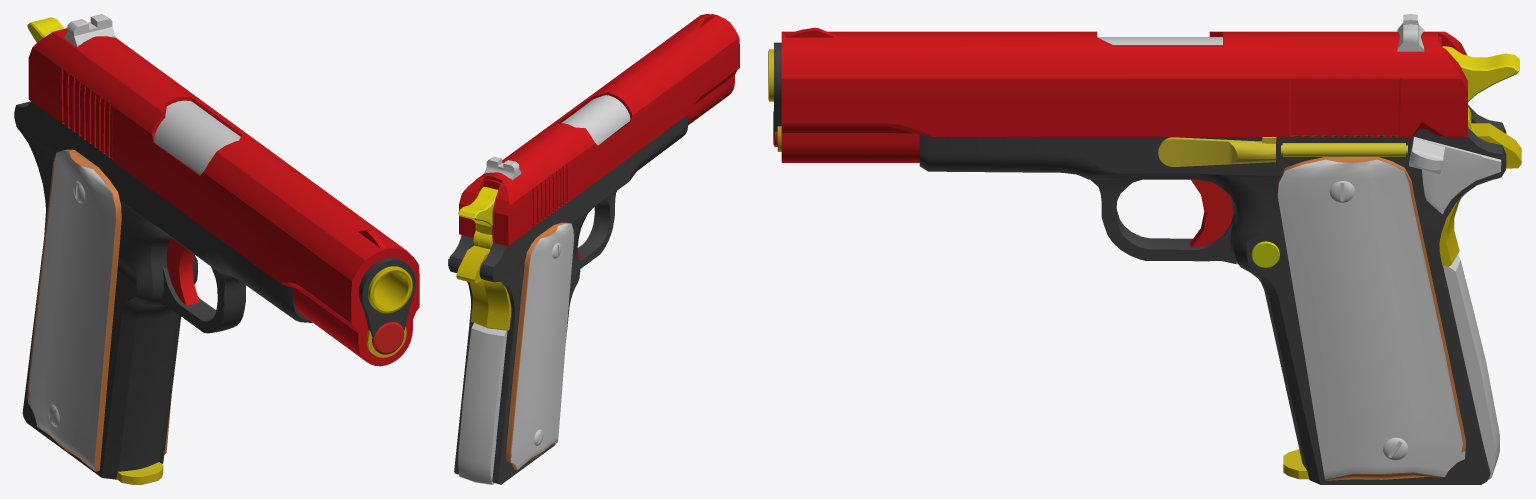
Rendered from m1911 raw fx.fbx.
3 renders of one model, left to right at view 1: azimuth 30°, elevation 25°; view 2: azimuth 150°, elevation 25°; view 3: azimuth 270°, elevation 25°, orthographic. The views are drawn at different scales.
Visible parts, largest first — view 1: Cube, Circle.003, Plane.001, Cylinder.003, Circle.001, Cylinder, Cube.001, Cube.007, Circle, Cube.002, Cube.004; view 2: Cube, Plane.001, Circle.003, Cube.006, Cube.003, Cylinder.003, Cube.004, Cube.007; view 3: Cube, Plane, Circle.003, Cube.006, Cube.005, Circle.004, Cube.004, Cube.003, Cube.001, Cylinder.001, Cylinder.003, Circle.005 (+1 smaller).
Boxes of the visible parts, x1=… form: Cube: x1=28, y1=22, x2=419, y2=366; Circle.003: x1=14, y1=101, x2=312, y2=479; Plane.001: x1=27, y1=149, x2=121, y2=471; Cylinder.003: x1=154, y1=100, x2=240, y2=174; Circle.001: x1=359, y1=257, x2=415, y2=337; Cylinder: x1=368, y1=266, x2=412, y2=313; Cube.001: x1=166, y1=238, x2=199, y2=305; Cube.007: x1=64, y1=14, x2=115, y2=46; Circle: x1=372, y1=322, x2=404, y2=354; Cube.002: x1=116, y1=462, x2=163, y2=484; Cube.004: x1=27, y1=17, x2=64, y2=42; Cube: x1=459, y1=14, x2=739, y2=245; Plane.001: x1=506, y1=222, x2=573, y2=470; Circle.003: x1=448, y1=115, x2=688, y2=484; Cube.006: x1=458, y1=323, x2=507, y2=484; Cube.003: x1=456, y1=245, x2=511, y2=330; Cylinder.003: x1=561, y1=95, x2=630, y2=145; Cube.004: x1=458, y1=186, x2=498, y2=249; Cube.007: x1=484, y1=156, x2=521, y2=180; Cube: x1=781, y1=27, x2=1467, y2=162; Plane: x1=1277, y1=157, x2=1465, y2=480; Circle.003: x1=919, y1=105, x2=1506, y2=484; Cube.006: x1=1443, y1=254, x2=1499, y2=479; Cube.005: x1=1409, y1=137, x2=1501, y2=214; Circle.004: x1=1158, y1=137, x2=1276, y2=166; Cube.004: x1=1442, y1=46, x2=1519, y2=130; Cube.003: x1=1439, y1=123, x2=1521, y2=266; Cube.001: x1=1189, y1=179, x2=1233, y2=247; Cylinder.001: x1=1281, y1=143, x2=1407, y2=156; Cylinder.003: x1=1097, y1=37, x2=1222, y2=44; Circle.005: x1=1329, y1=181, x2=1408, y2=460.
Size of the model in its own units: 94.1 by 404 by 617.
